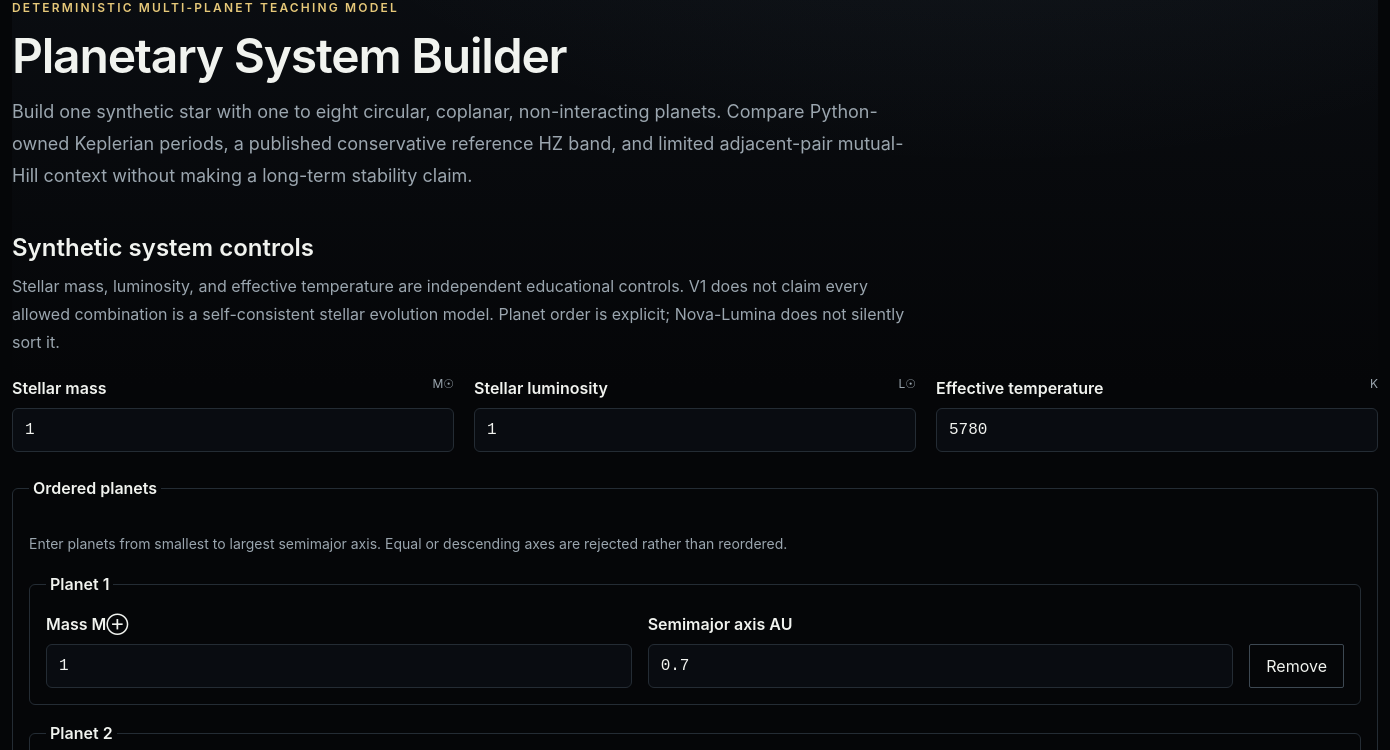
Test: PlanetarySystemBuilderView › commits only an accepted exact Python-owned result
Replace the text in the number field named "Planet 1 semimajor axis AU" with "0.8": [940, 666] box [648,644,1233,688]
(page scrolled)
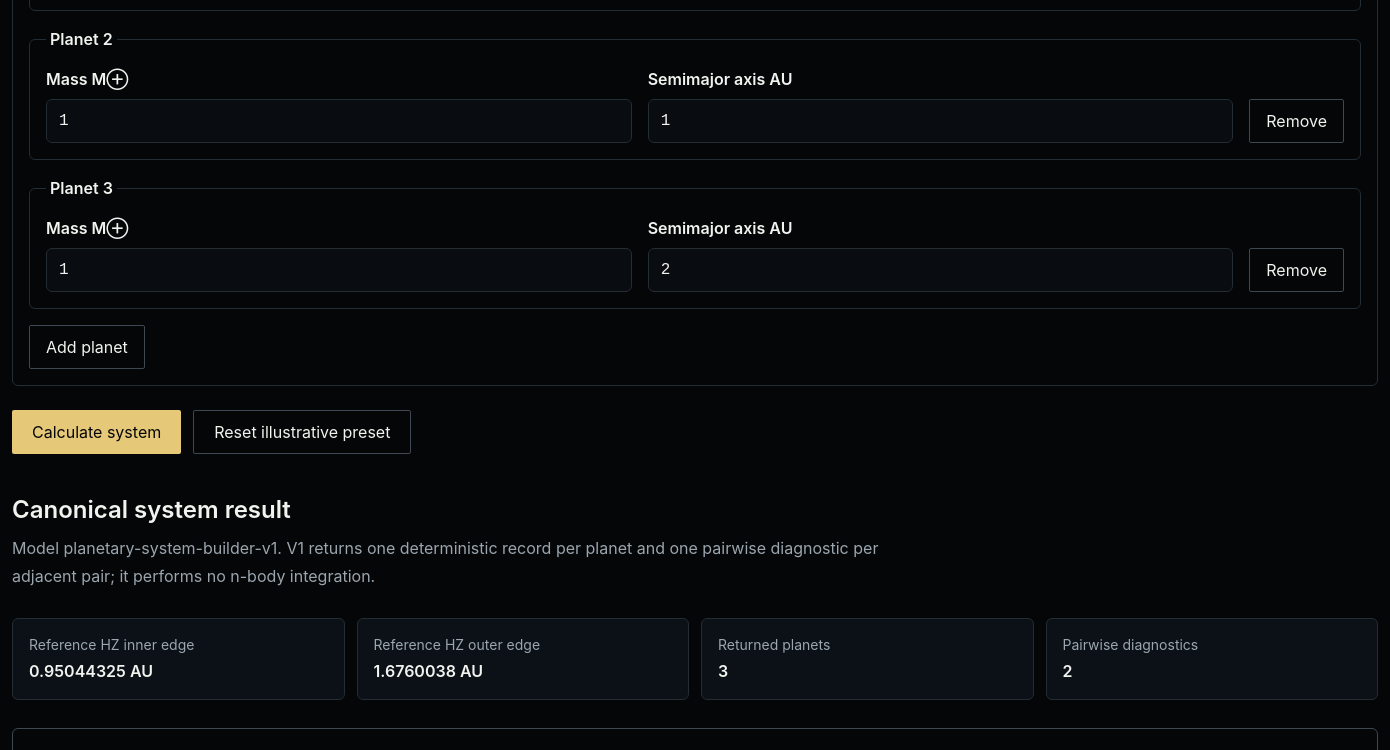
Click the button "Calculate system": [97, 432] box [12,410,181,454]
(page scrolled)
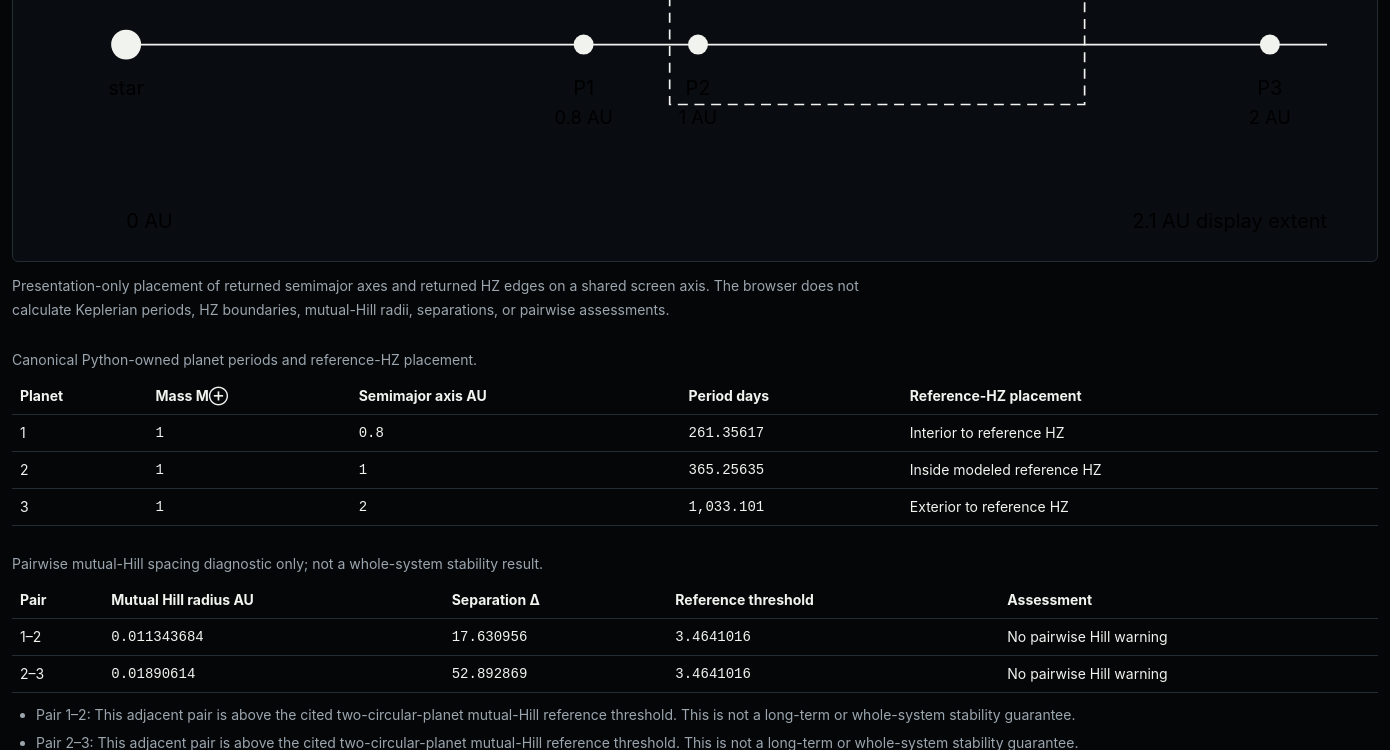
Result: the text "261.35617" is shown at [681,414,902,451]
